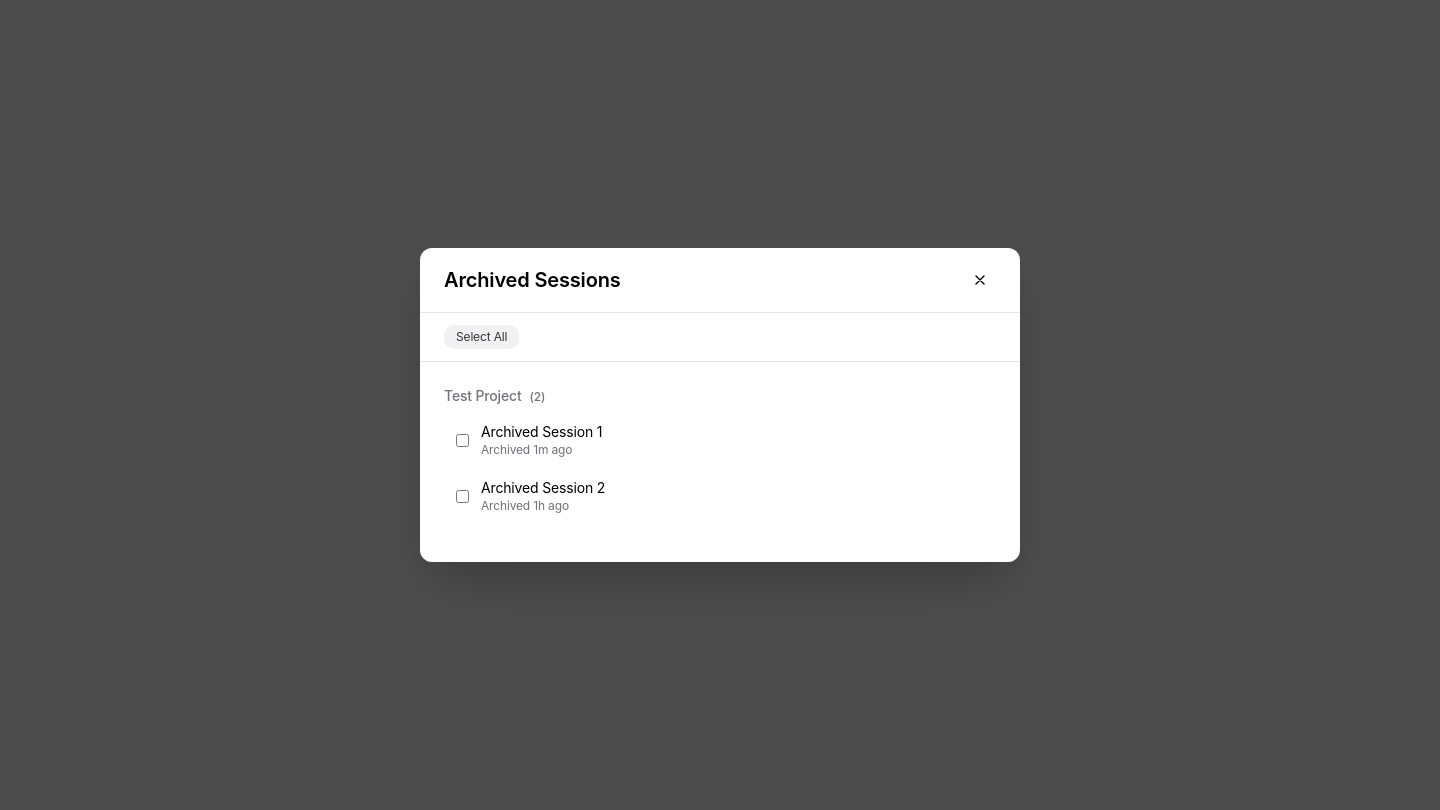
Scenario: ArchivedSessionsDialog › "Clear All" button deselects all
This screenshot has width=1440, height=810.
Expected: the text "Archived Session 1" is shown, [481, 423, 602, 440]
// Select all first
Click the button "Select All".
click(482, 337)  # box [444, 325, 519, 349]
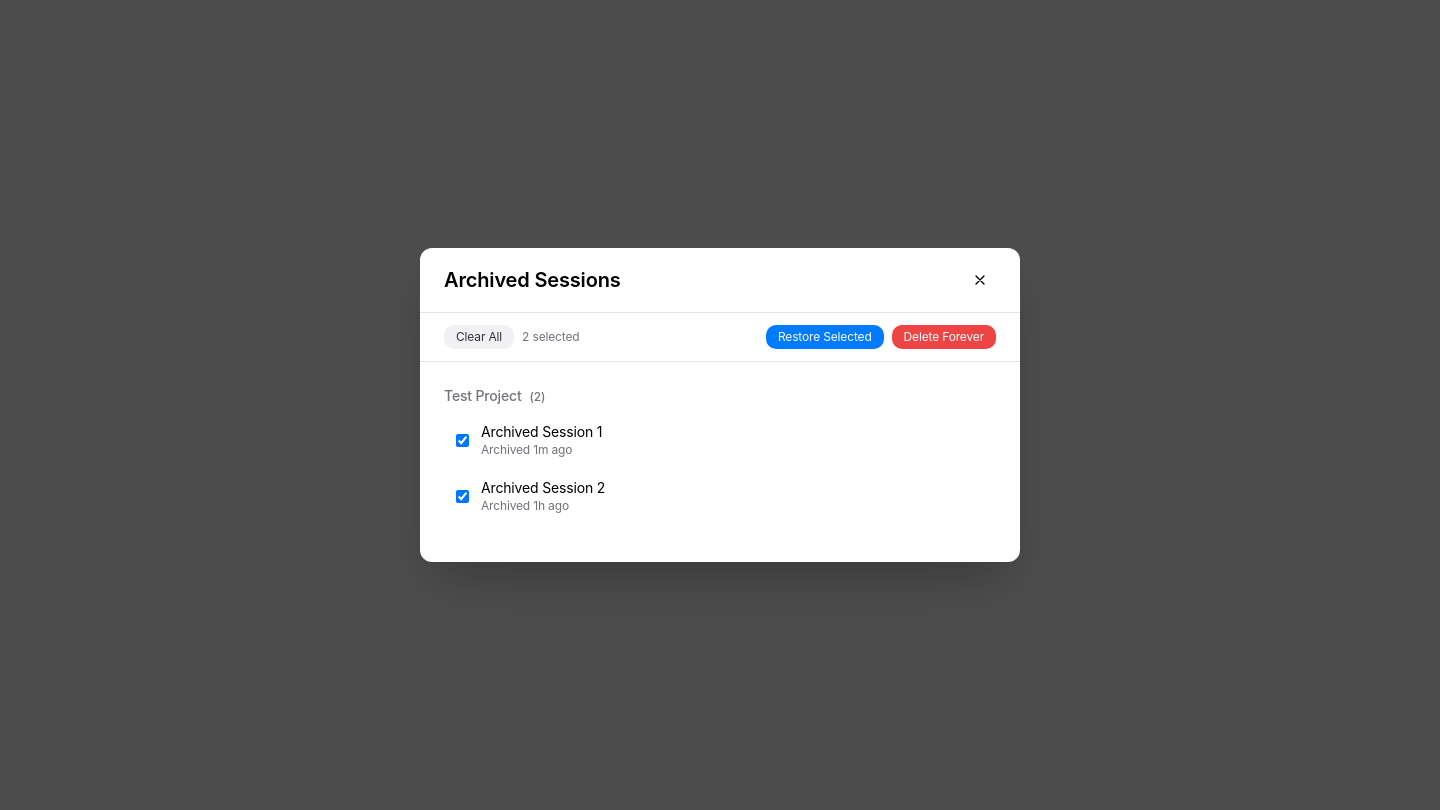
Expected: the checkbox next to "Archived Session 1" is checked, [456, 434, 469, 446]
Expected: the checkbox next to "Archived Session 2" is checked, [456, 490, 469, 502]
// Now the button should say "Clear All"
Click the button "Clear All".
click(479, 337)  # box [444, 325, 514, 349]
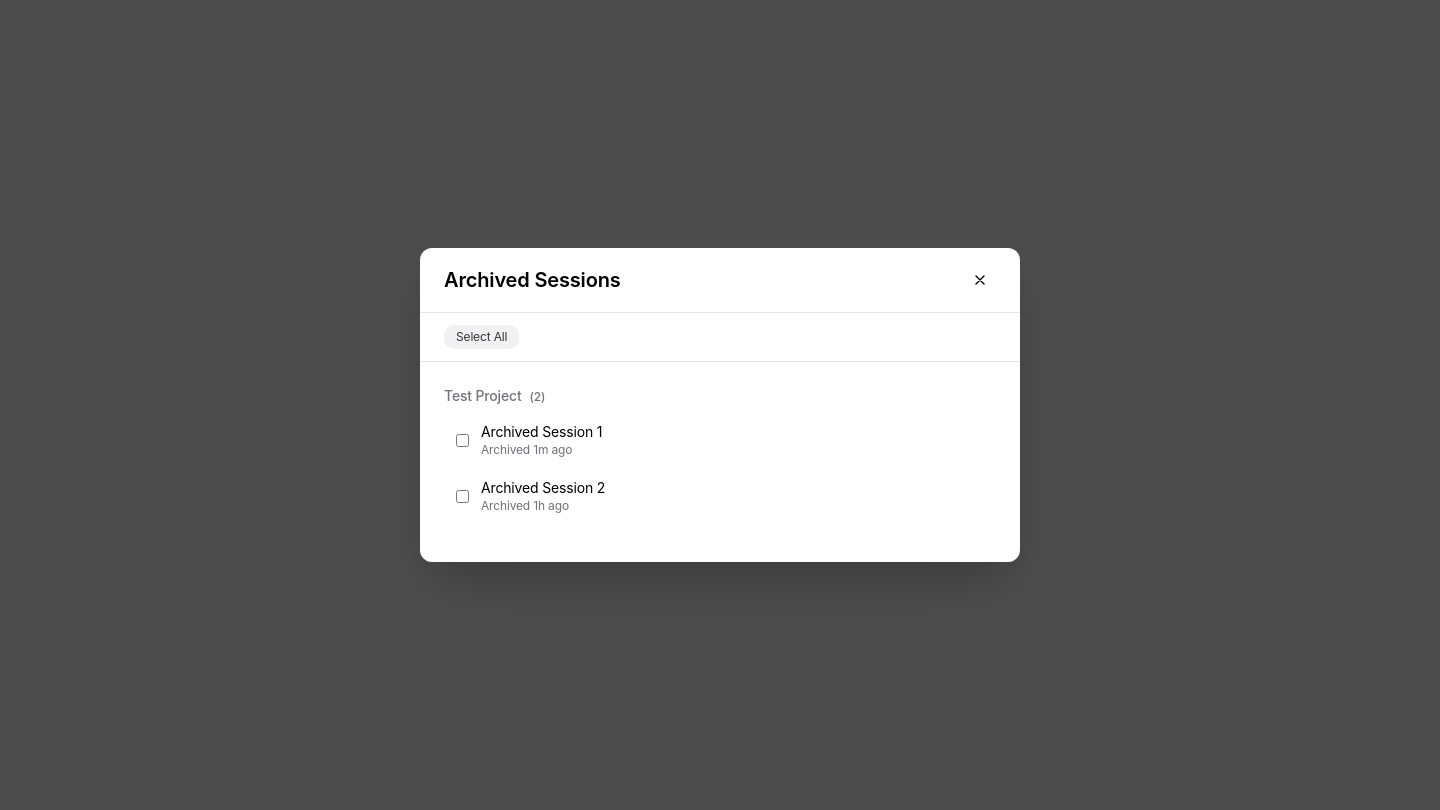
Expected: the checkbox next to "Archived Session 1" is not checked, [456, 434, 469, 446]
Expected: the checkbox next to "Archived Session 2" is not checked, [456, 490, 469, 502]
